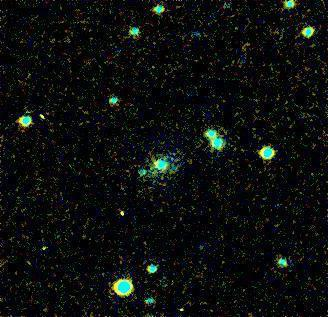star: (29, 232, 59, 262)
